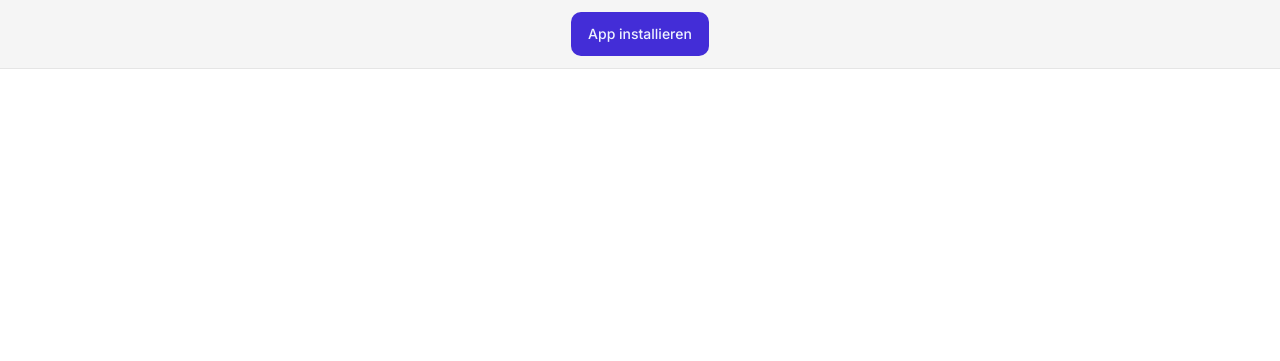
Test case: zeigt die Installationshilfe auf dem iPhone ohne Browser-Installationsereignis: Mozilla/5.0 (iPhone; CPU iPhone OS 18_0 like Mac OS X) Version/18.0 Mobile/15E14
Later steps or results of the test are not shown.
Click the button "App installieren" at (640,34), box [571,12,709,56]
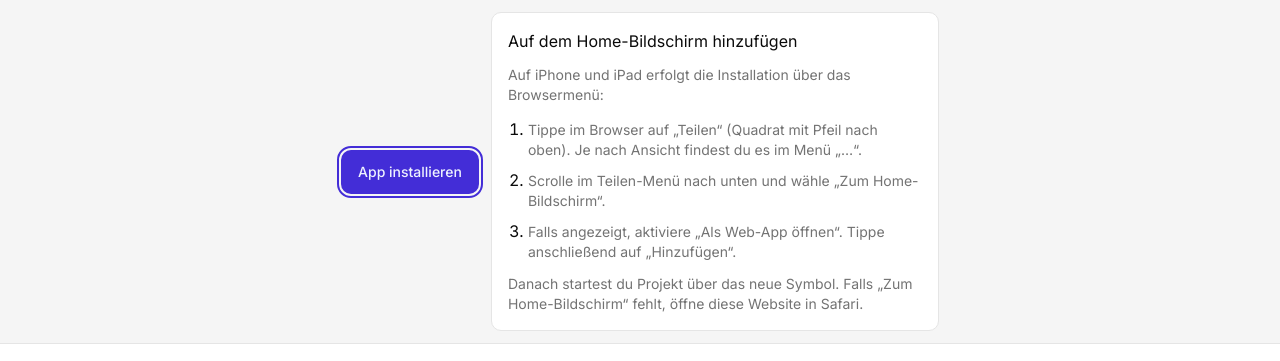
Check: the button "App installieren" is expanded, box [341,150,479,194]
Check: the element named "Installation auf iPhone und iPad" is shown, box [491,12,939,331]
Check: the text "Scrolle im Teilen-Menü" is shown, box [528,172,918,209]
